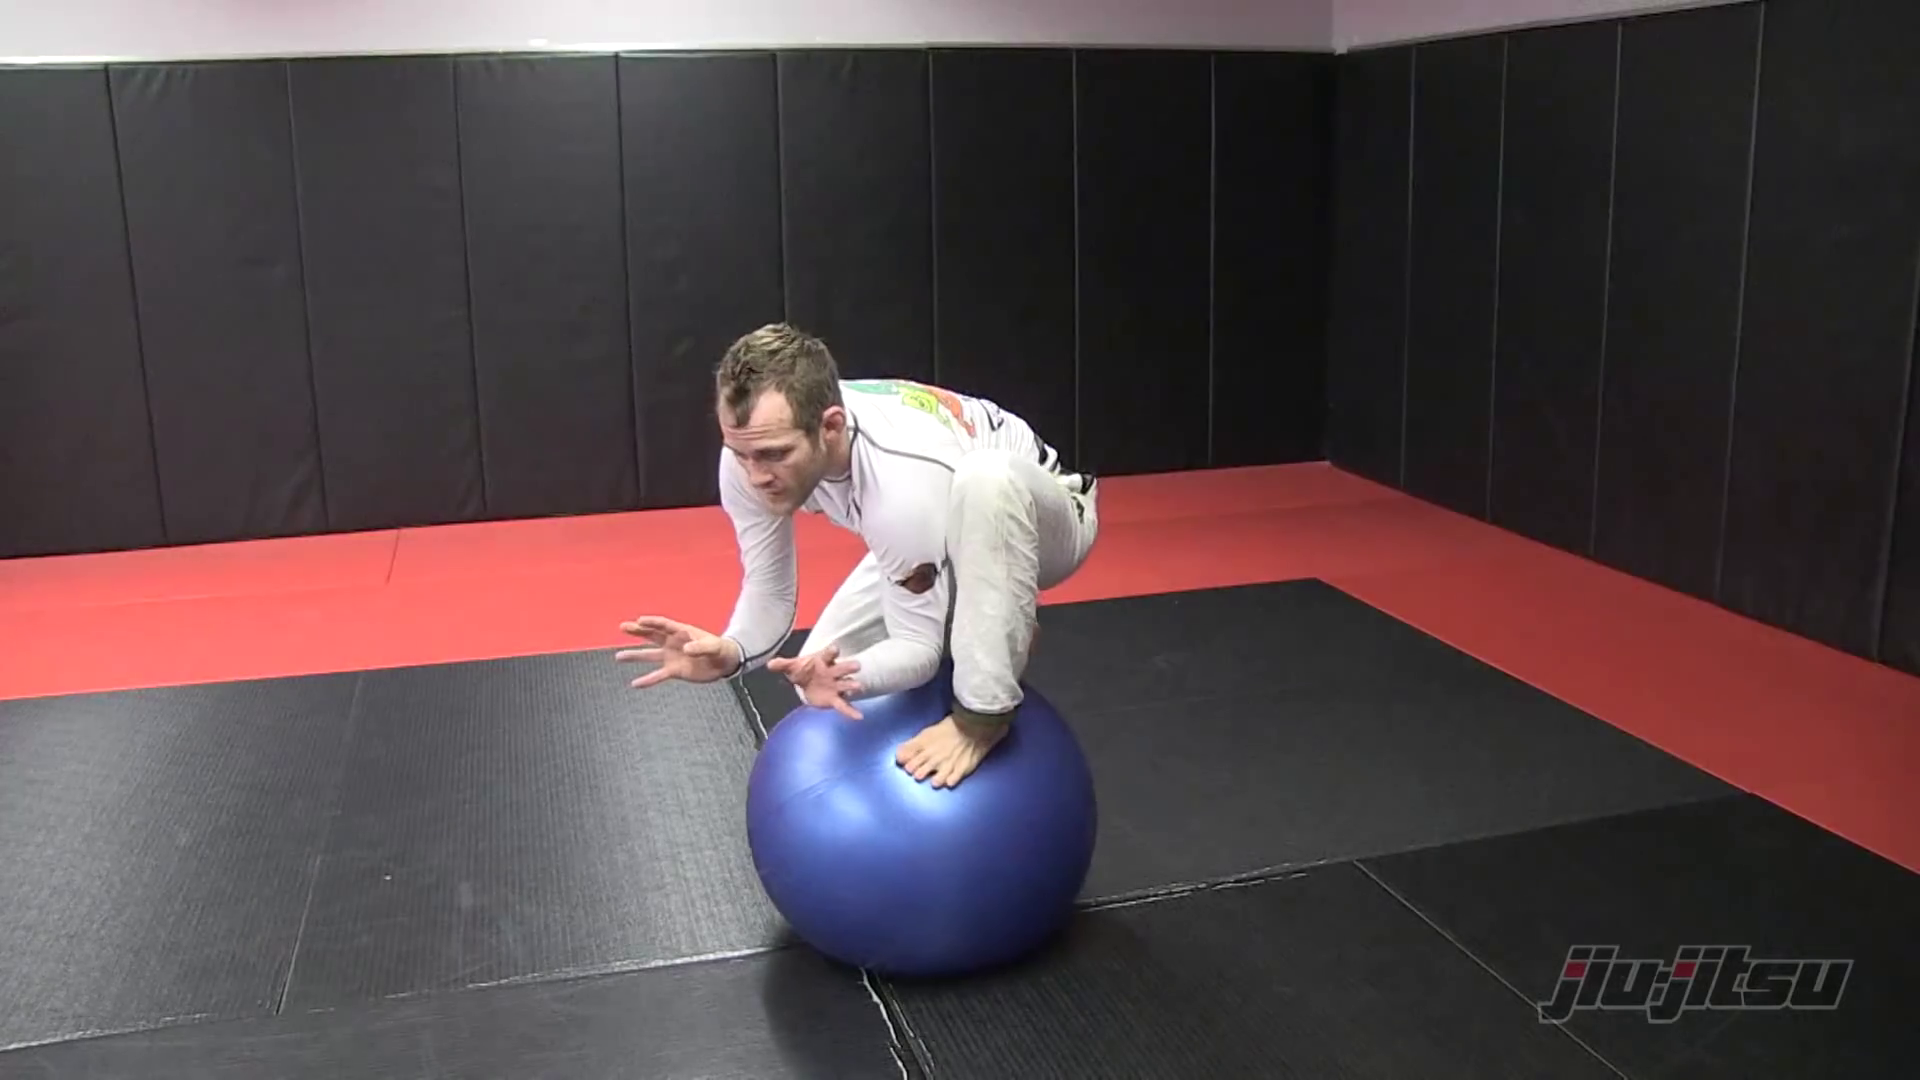yogaball: (738, 670, 1122, 989)
